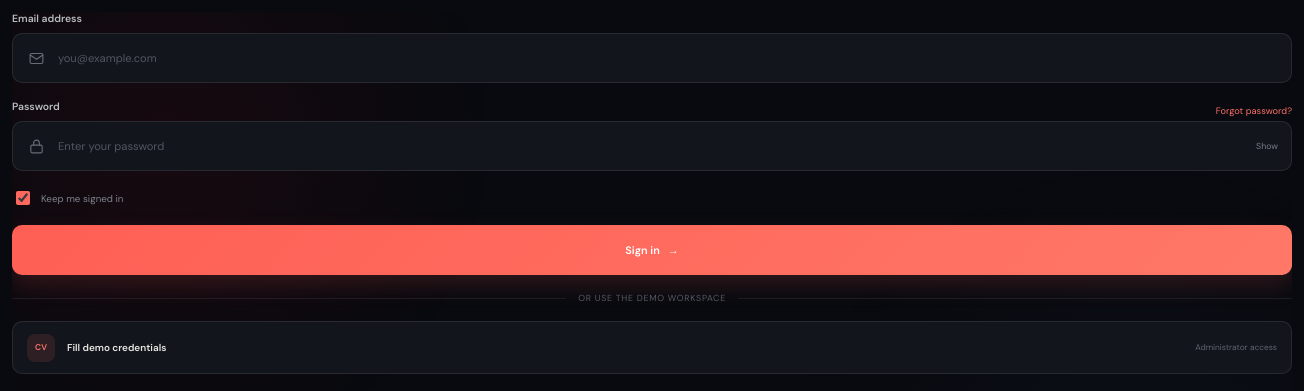
Test: LoginForm › fills the demo administrator credentials
Click the button "CV Fill demo credentials Administrator access" at (117, 348), box [12,321,1292,374]
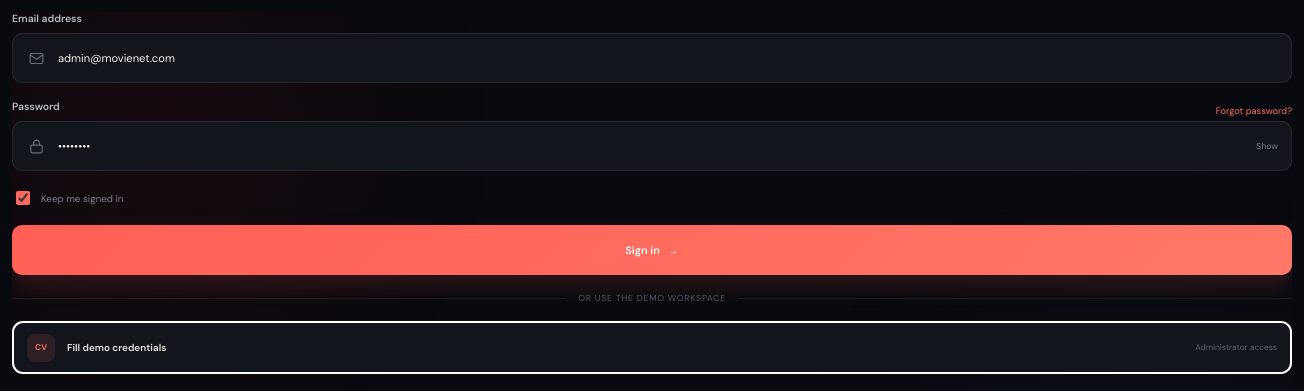
Result: the field labelled "Email address" holds "admin@movienet.com" at [45,51,1291,65]
Result: the password field labelled "Password" holds "admin123" at [45,139,1256,153]
